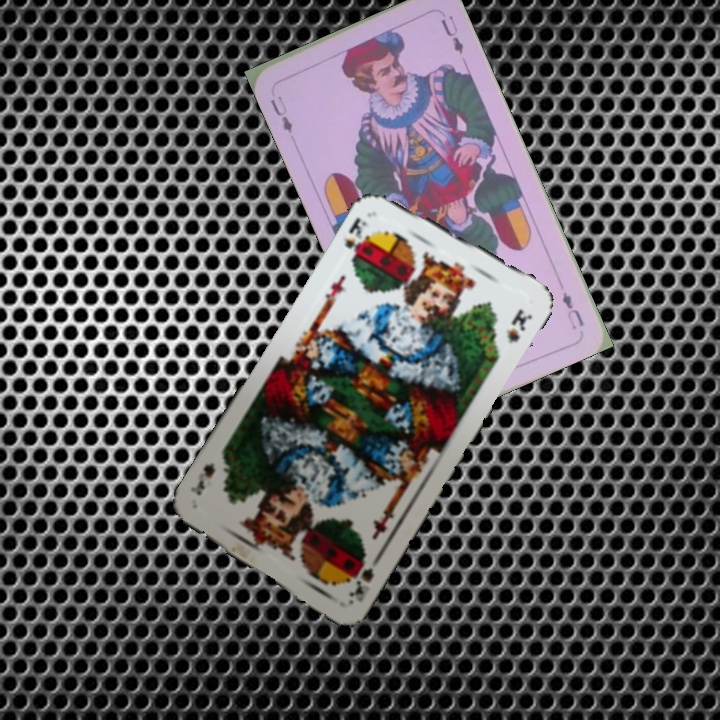EU: (558, 288, 587, 333), (266, 91, 295, 135)
SK: (345, 549, 384, 605), (340, 213, 371, 262)
